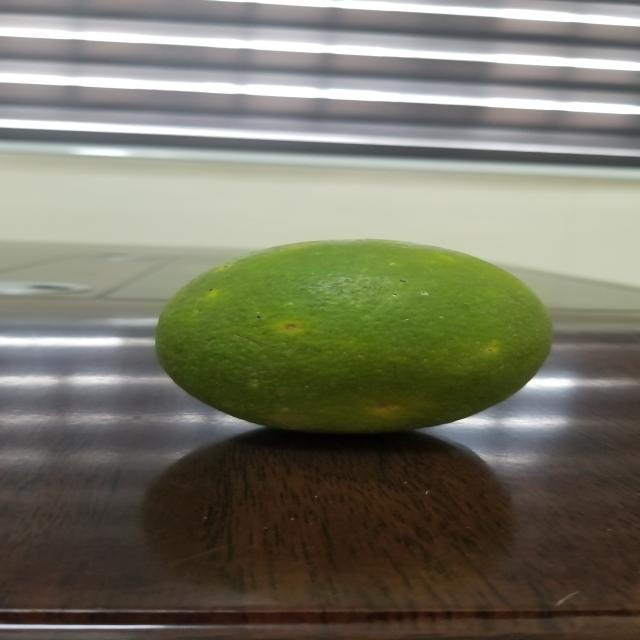agrume: (157, 237, 552, 438)
